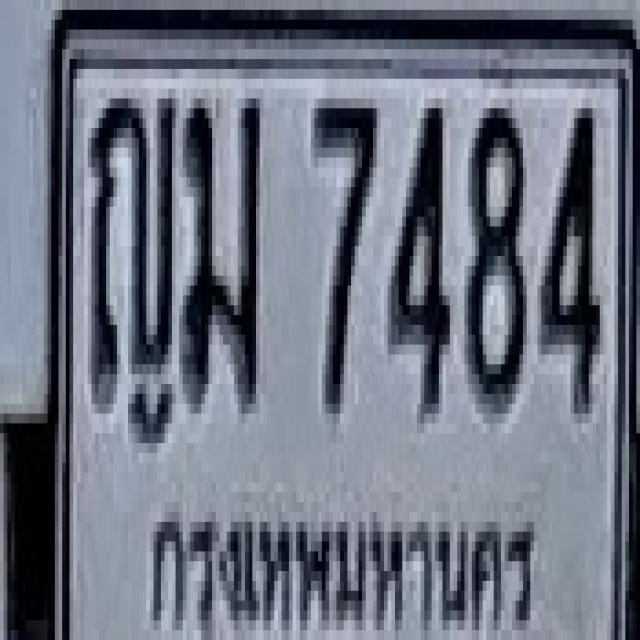-: (88, 89, 176, 404), (181, 94, 262, 408)
4: (388, 99, 450, 414), (541, 99, 600, 414)
7: (312, 99, 378, 414)
8: (466, 99, 525, 414)
BKK: (144, 482, 544, 640)
